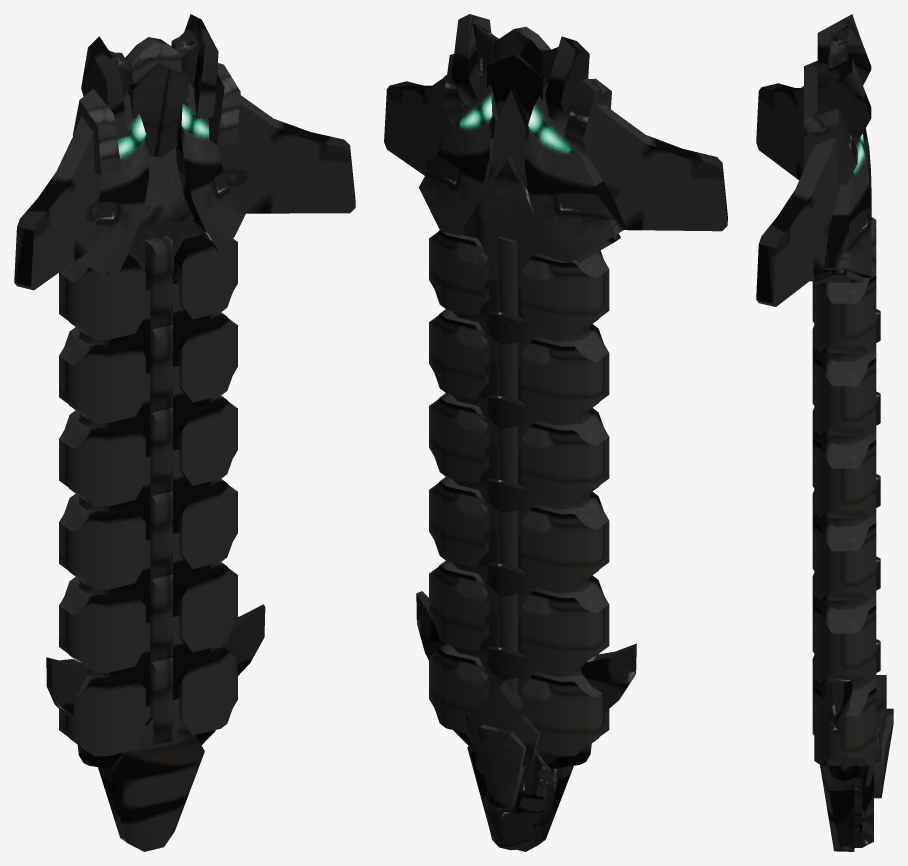
File: ship20i.fbx
3 views of the same model, side by side, from view 1: azimuth 30°, elevation 25°; view 2: azimuth 150°, elevation 25°; view 3: azimuth 270°, elevation 25° (orthographic).
Parts seen in each view (by area): view 1: ship20i; view 2: ship20i; view 3: ship20i.
Part boxes in pixels (bbox=[...]): ship20i: bbox=[14, 14, 355, 851]; ship20i: bbox=[384, 14, 727, 851]; ship20i: bbox=[756, 14, 893, 851].
Size of the model in its own units: 20790 by 47601 by 7323.
Materials: 1 (1 with a texture image).
